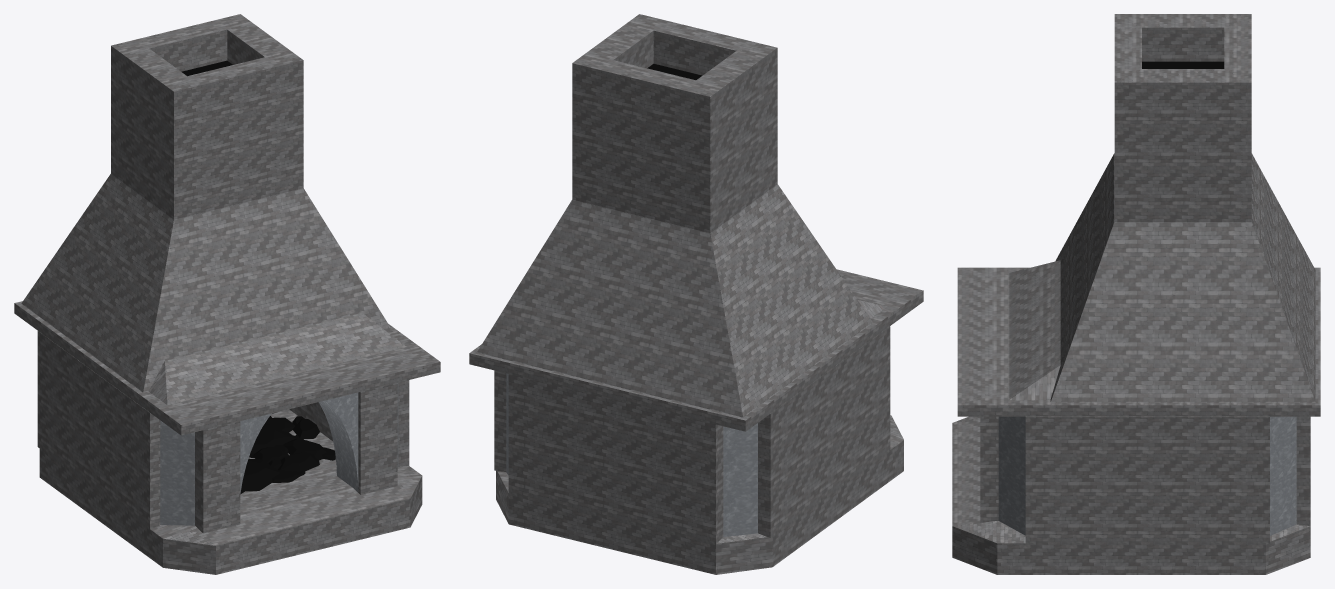
The model's file is Forge Model.fbx.
The picture shows the model from 3 angles, left to right: view 1: azimuth 30°, elevation 25°; view 2: azimuth 150°, elevation 25°; view 3: azimuth 270°, elevation 25°; orthographic projection. The views are drawn at different scales.
Visible parts, largest first — view 1: block_taper%, block (×5), block_tube, block_bevel, wedge (×2), rocks (×4), halfPipe_half (×2), wedge_cornerOuter (×2); view 2: block_taper%, block (×4), block_tube, block_bevel, wedge; view 3: block (×5), block_taper%, block_tube, block_bevel, wedge (×3), wedge_cornerOuter (×2).
Boxes of the visible parts, bbox=[...] form: block_taper%: bbox=[21, 174, 392, 392]; block (×5): bbox=[14, 301, 440, 533]; block_tube: bbox=[111, 14, 303, 219]; block_bevel: bbox=[39, 409, 422, 574]; wedge (×2): bbox=[160, 314, 379, 525]; rocks (×4): bbox=[240, 417, 335, 494]; halfPipe_half (×2): bbox=[240, 392, 358, 493]; wedge_cornerOuter (×2): bbox=[148, 313, 406, 405]; block_taper%: bbox=[477, 184, 872, 417]; block (×4): bbox=[469, 269, 923, 543]; block_tube: bbox=[572, 14, 777, 233]; block_bevel: bbox=[496, 415, 903, 574]; wedge: bbox=[723, 423, 757, 536]; block (×5): bbox=[957, 61, 1320, 543]; block_taper%: bbox=[1050, 153, 1315, 402]; block_tube: bbox=[1114, 14, 1251, 221]; block_bevel: bbox=[952, 416, 1310, 574]; wedge (×3): bbox=[998, 263, 1296, 535]; wedge_cornerOuter (×2): bbox=[1009, 260, 1060, 399].
Bounding box in the file's own units: 70 × 110 × 79.1.
3 materials, 2 textured.
